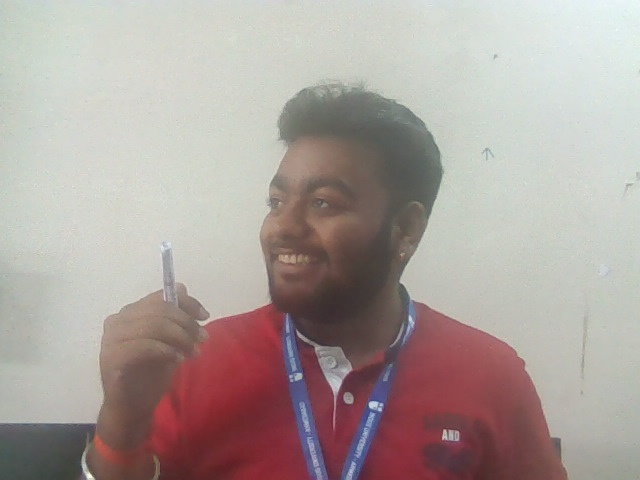smoking: (98, 240, 211, 412)
